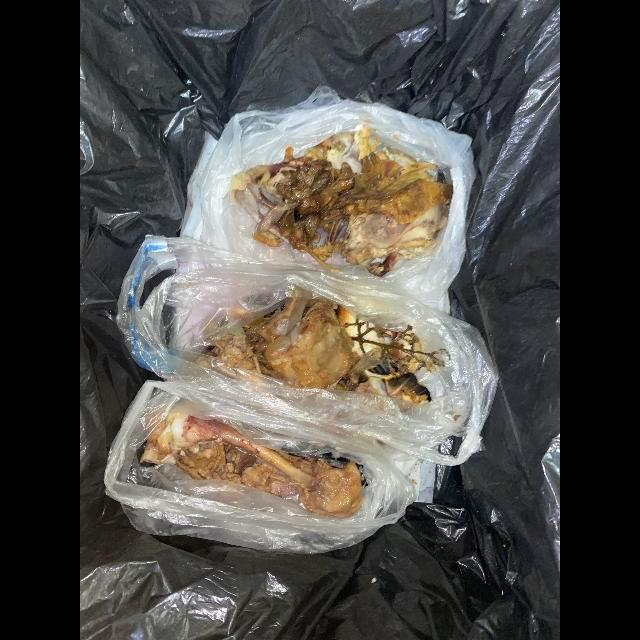left_over_food: (231, 128, 454, 278), (141, 413, 363, 519), (213, 298, 358, 392)
